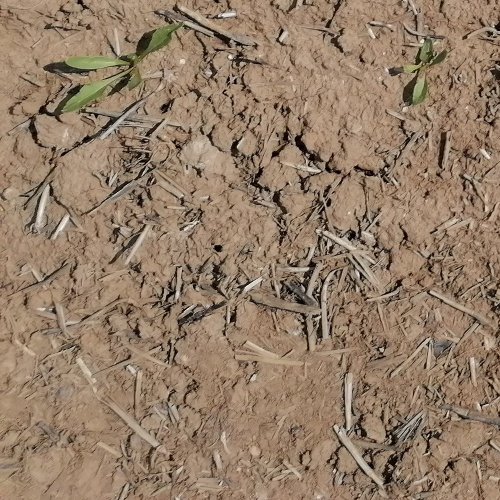beet: (59, 19, 183, 112), (399, 40, 449, 106)
